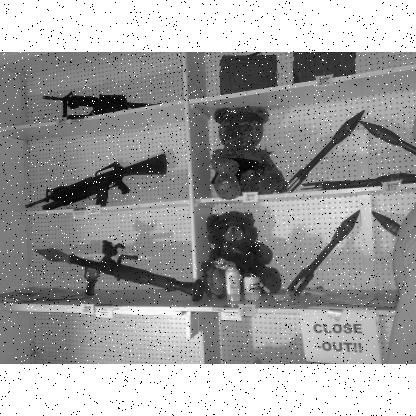gun: (27, 148, 166, 218), (40, 88, 162, 120)
